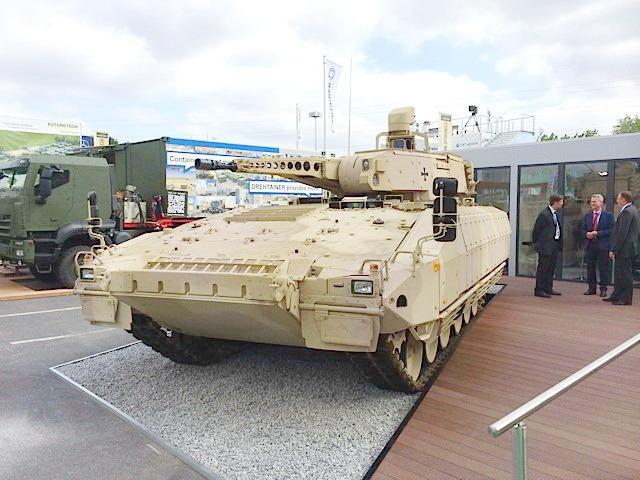MIL_IFV: (79, 108, 510, 397)
